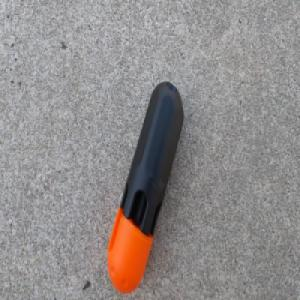PlasticPart: (106, 79, 184, 293)
